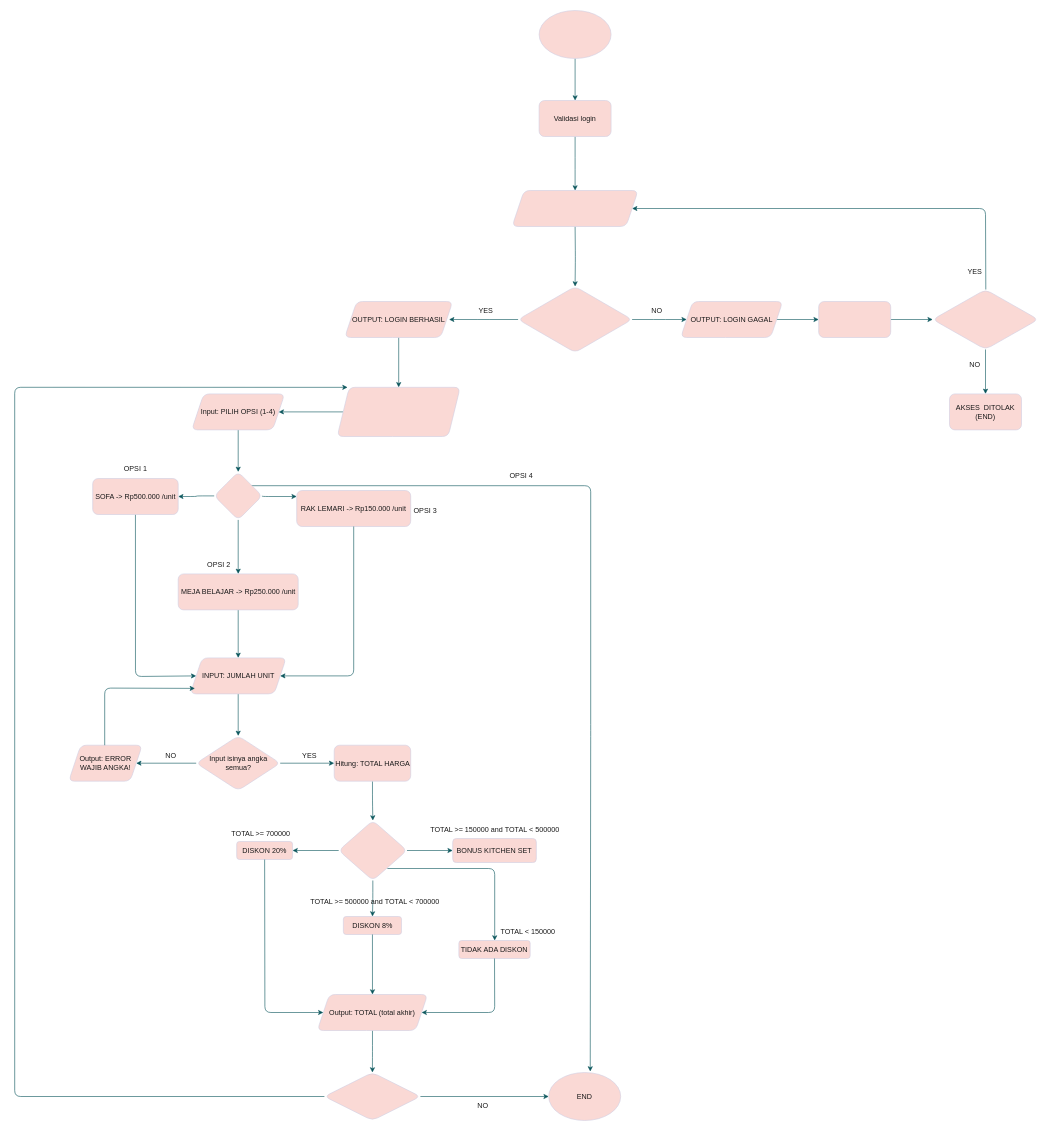
This 1049x1131 diagram has some shape labels left out. Here are the shapes that lost their labels. From the top down, the box of each, then its label:
(538, 10, 611, 58): START
(512, 190, 638, 226): Input: USERNAME, PASSWORD
(518, 286, 632, 352): USERNAME, PASSWORD BENAR
(818, 301, 891, 338): PERCOBAAN +=1
(932, 289, 1038, 350): PERCOBAAN < LIMIT
(337, 387, 460, 436): OUTPUT: MENU FURNITUR 1. SOFA 2. MEJA BELAJAR 3. RAK LEMARI 4. KELUAR
(214, 471, 262, 520): OPSI?
(338, 820, 407, 880): Hitung TOTAL dengan DISKON
(324, 1072, 420, 1120): LANJUT BELANJA? YA/TIDAK
